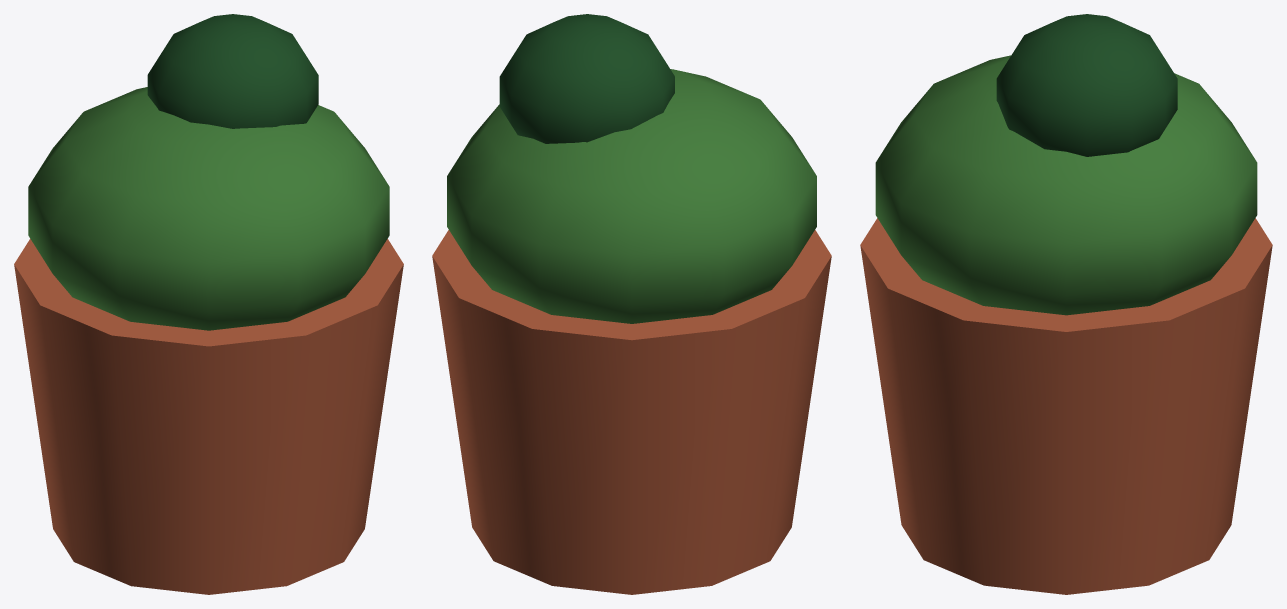
The model's file is succulent_mini.glb.
3 views of the same model, side by side, from view 1: azimuth 30°, elevation 25°; view 2: azimuth 150°, elevation 25°; view 3: azimuth 270°, elevation 25° (orthographic). The views are drawn at different scales.
Parts seen in each view (by area): view 1: Part0, Part1, Part2; view 2: Part0, Part1, Part2; view 3: Part0, Part1, Part2.
Part boxes in pixels (x1,y1,x2,y2): Part0: [14, 239, 403, 594]; Part1: [28, 87, 389, 330]; Part2: [147, 14, 318, 128]; Part0: [432, 230, 831, 594]; Part1: [447, 69, 816, 323]; Part2: [499, 14, 674, 143]; Part0: [860, 218, 1272, 594]; Part1: [875, 55, 1257, 315]; Part2: [996, 14, 1177, 156].
Size of the model in its own units: 0.08 by 0.111 by 0.08.
